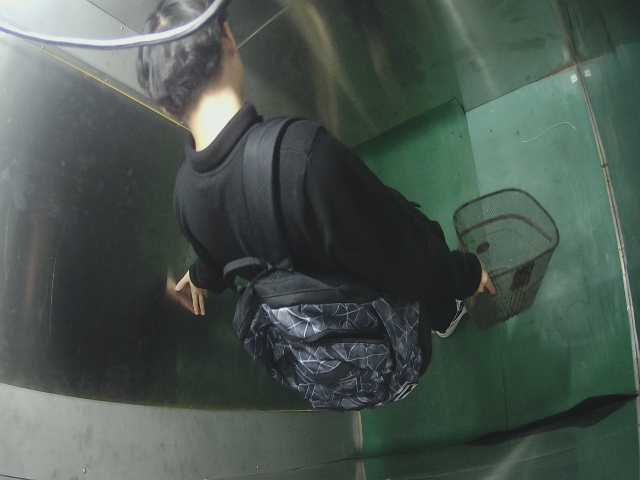bag: (227, 254, 449, 402)
person: (130, 5, 497, 410)
